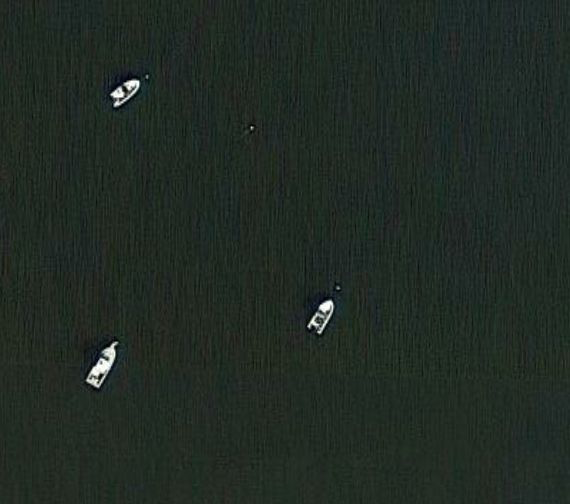boat: (88, 338, 124, 392), (306, 297, 335, 337), (109, 76, 141, 107)
